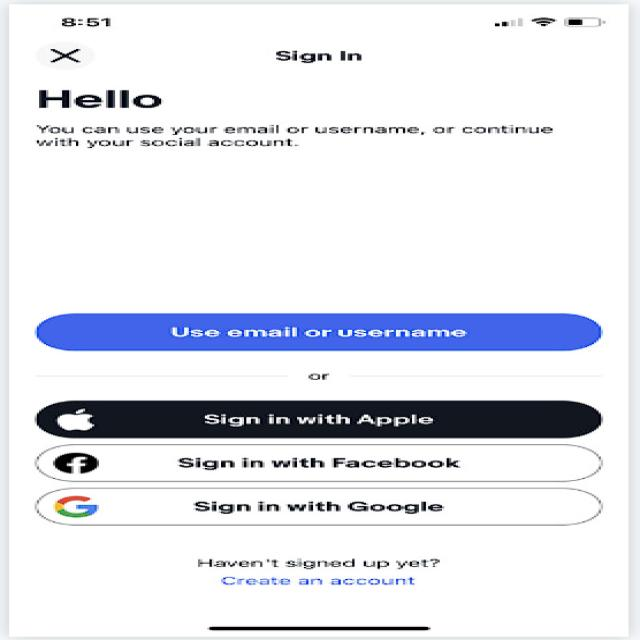button: (21, 484, 614, 536), (24, 392, 623, 443), (18, 438, 616, 484), (24, 310, 612, 356)
icon button: (23, 34, 116, 71)
spacer: (26, 161, 591, 304)
text: (29, 76, 598, 157), (185, 544, 464, 600), (262, 45, 376, 67)
